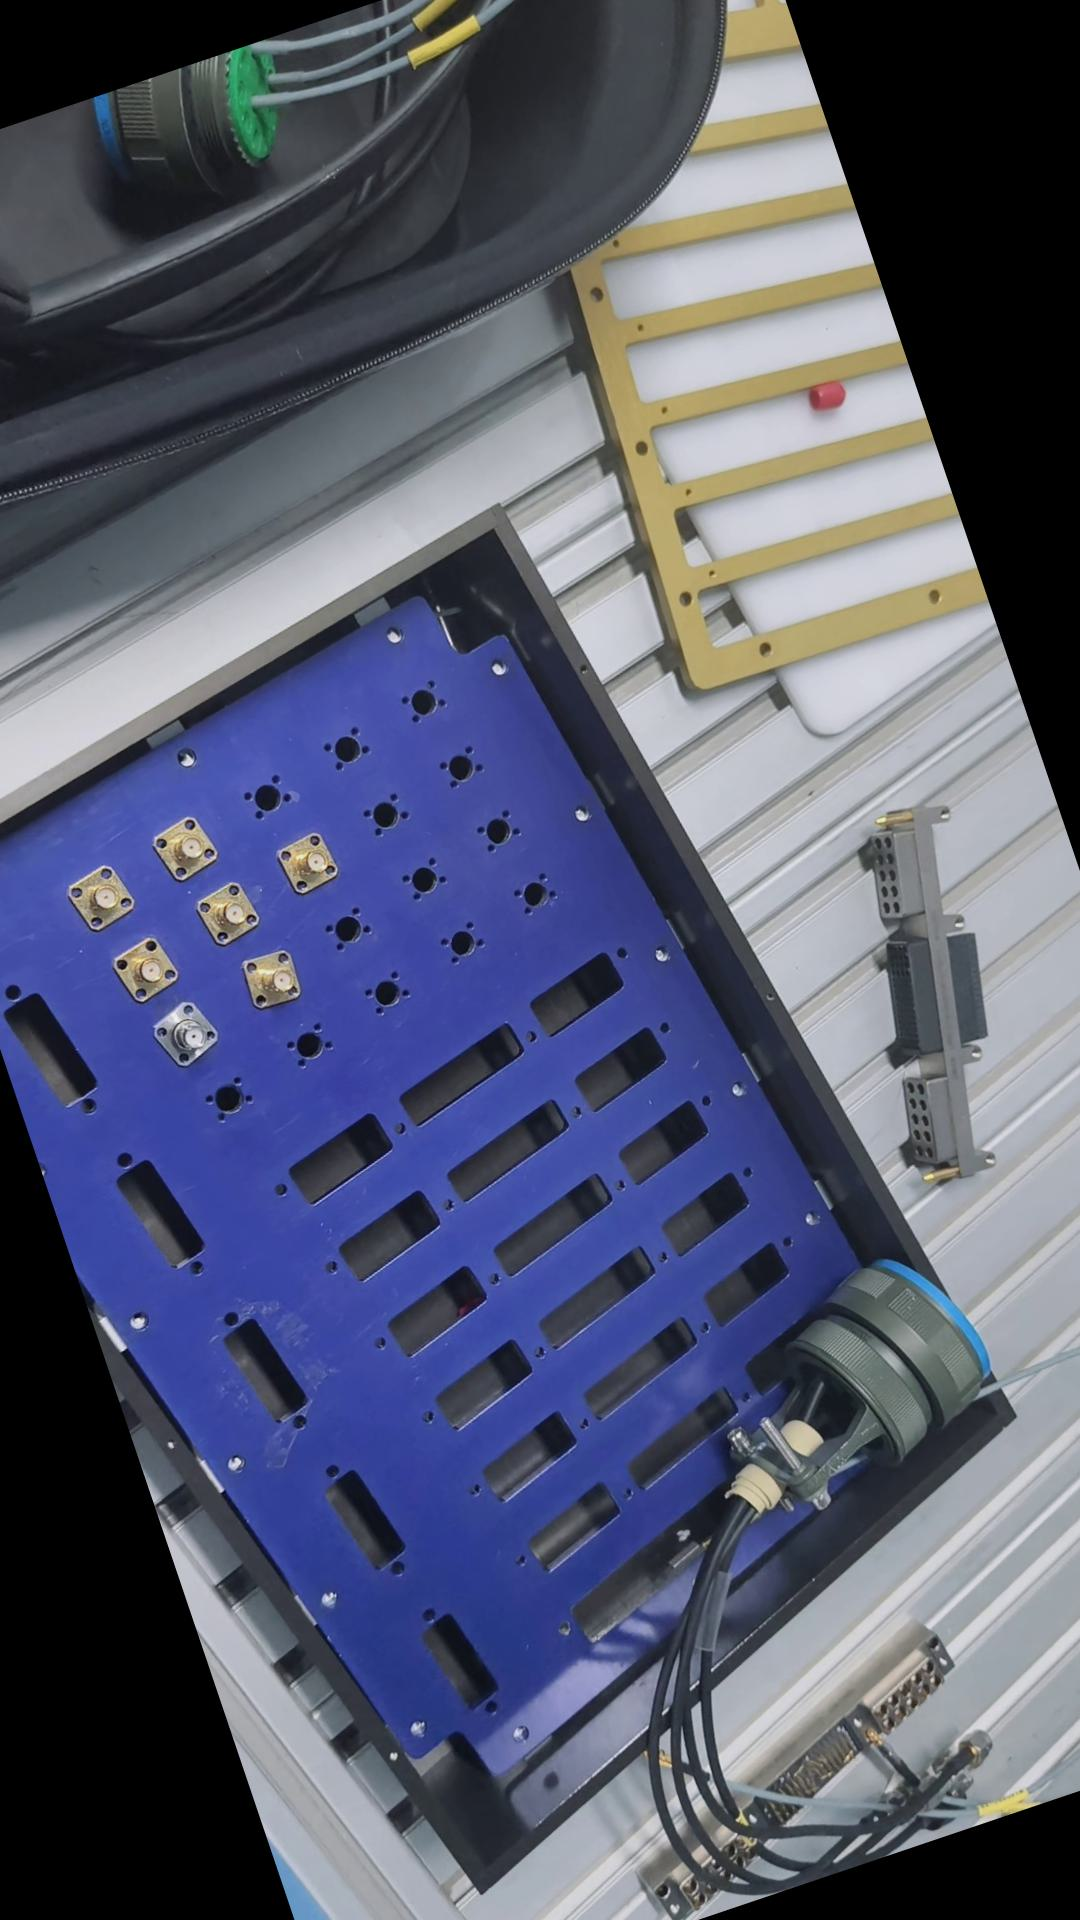SMA: (146, 808, 229, 887), (61, 857, 145, 935), (236, 938, 316, 1017), (109, 935, 189, 1010), (272, 823, 349, 895), (152, 994, 225, 1068), (196, 878, 266, 949)
